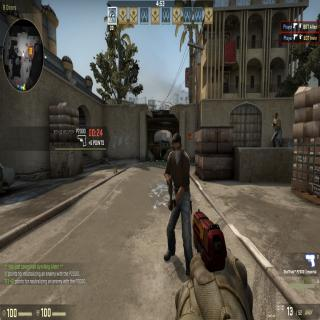T-Body: (162, 132, 194, 270), (271, 110, 284, 146)
T-Head: (168, 132, 184, 160), (272, 110, 279, 121)
